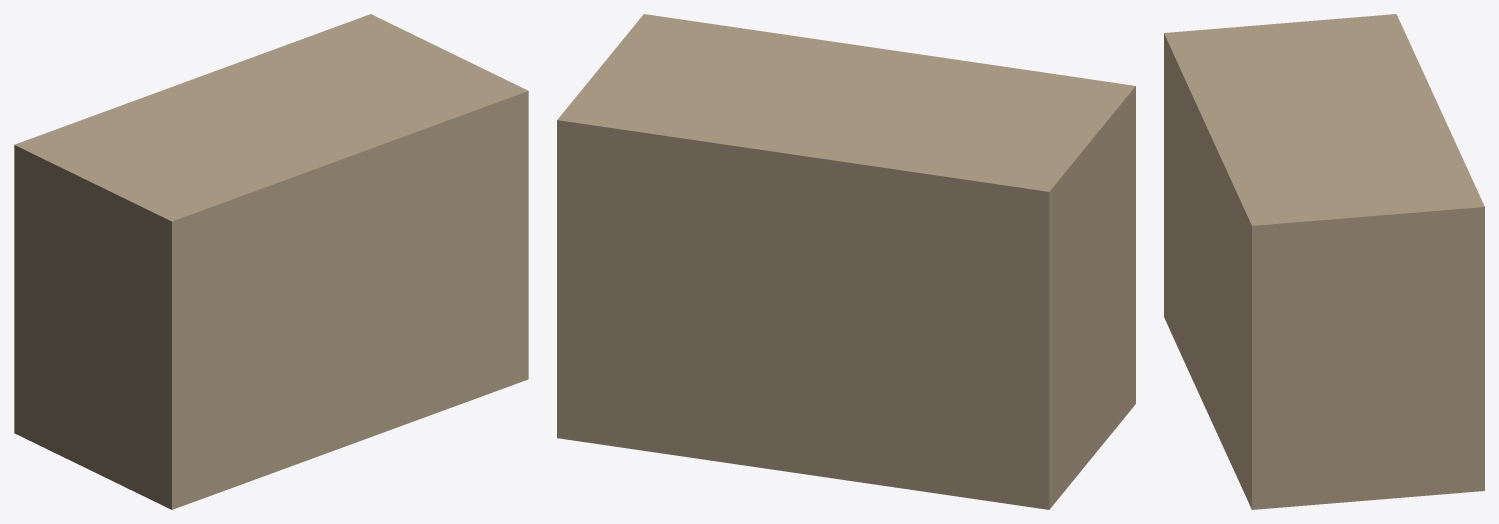
File: bld_101562217.dae
3 views of the same model, side by side, from view 1: azimuth 30°, elevation 25°; view 2: azimuth 150°, elevation 25°; view 3: azimuth 270°, elevation 25° (orthographic). The views are drawn at different scales.
Parts seen in each view (by area): view 1: bld_101562217; view 2: bld_101562217; view 3: bld_101562217.
Boxes of the visible parts, bbox=[...] form: bld_101562217: bbox=[14, 14, 528, 509]; bld_101562217: bbox=[557, 14, 1135, 509]; bld_101562217: bbox=[1164, 14, 1484, 509].
Size of the model in its own units: 12.8 by 8.19 by 8.
